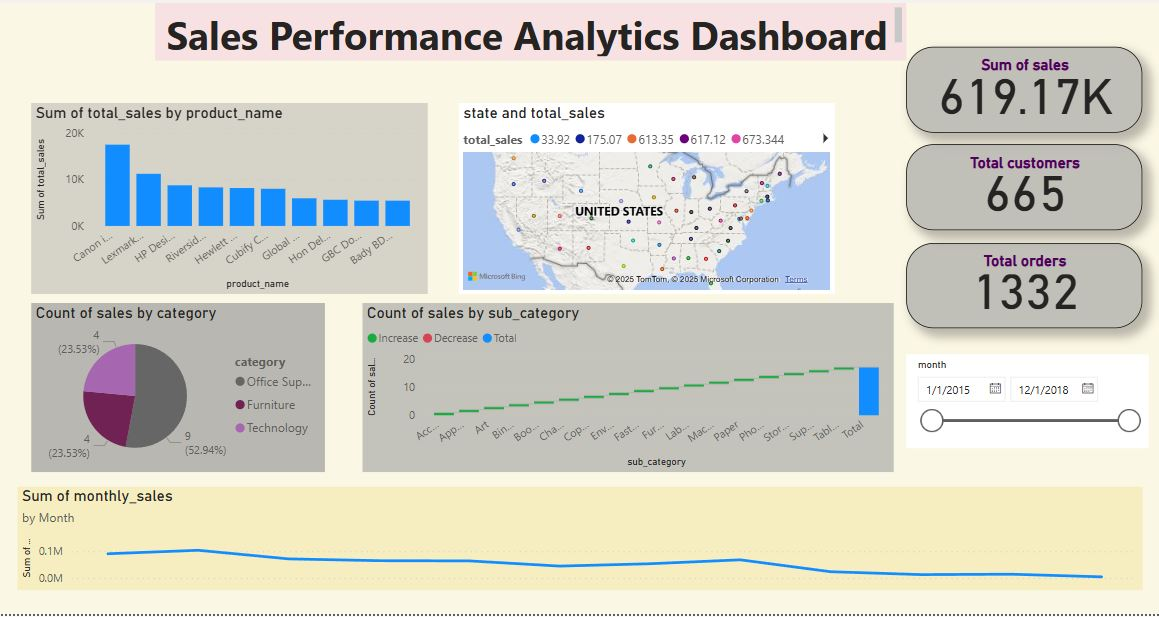

This screenshot's page, from the dashboard's own definition file:
{"tool":"powerbi","page":{"name":"Page 1","canvas":[1280,720],"ordinal":0},"visuals":[{"type":"card","title":"Sum of sales ","fields":{"Values":["Sum(card_visuals.sales_sum)"]},"box":[1000.3,97.4,259.3,94.7],"z":0},{"type":"card","title":"Total orders","fields":{"Values":["Sum(card_visuals.total_orders)"]},"box":[1000.3,312.9,259.3,93.3],"z":1000},{"type":"card","title":"Total customers","fields":{"Values":["Sum(card_visuals.total_customer)"]},"box":[1000.3,204.5,259.3,94.7],"z":2000},{"type":"textbox","box":[175.6,49.4,824.7,63.1],"z":3000},{"type":"lineChart","fields":{"Category":["sales over month.month.Variation.Date Hierarchy.Month"],"Y":["Sum(sales over month.monthly_sales)"]},"box":[24.7,580.4,1235,113.9],"z":4000},{"type":"map","fields":{"Category":["Map visuals or regional bar charts.state"],"Series":["Map visuals or regional bar charts.total_sales"]},"box":[509.1,159.2,413,209.9],"z":4001},{"type":"waterfallChart","fields":{"Category":["Category and Sub-Category Breakdown.sub_category"],"Y":["CountNonNull(Category and Sub-Category Breakdown.sales)"]},"box":[403.4,378.7,583.2,185.2],"z":4002},{"type":"slicer","fields":{"Values":["sales over month.month"]},"box":[1000.3,435,266.2,102.9],"z":4003},{"type":"columnChart","fields":{"Category":["Top N bar chart.product_name"],"Y":["Sum(Top N bar chart.total_sales)"]},"box":[39.8,159.2,435,209.9],"z":4004},{"type":"pieChart","fields":{"Y":["CountNonNull(Category and Sub-Category Breakdown.sales)"],"Category":["Category and Sub-Category Breakdown.category"]},"box":[39.8,378.7,322.5,185.2],"z":4005}]}

Visuals, with their boxes on the page's 1280x720 design canvas (x1, y1, x2, y2). These are canvas units, not pixel positions in the 1159x617 screenshot, which may show the page scaled, cropped or inside an application window:
"Sum of sales " card: l=1000, t=97, r=1260, b=192
"Total orders" card: l=1000, t=313, r=1260, b=406
"Total customers" card: l=1000, t=204, r=1260, b=299
textbox: l=176, t=49, r=1000, b=112
lineChart - sales over month.month.Variation.Date Hierarchy.Month x Sum(sales over month.monthly_sales): l=25, t=580, r=1260, b=694
map - Map visuals or regional bar charts.state x Map visuals or regional bar charts.total_sales: l=509, t=159, r=922, b=369
waterfallChart - Category and Sub-Category Breakdown.sub_category x CountNonNull(Category and Sub-Category Breakdown.sales): l=403, t=379, r=987, b=564
slicer - sales over month.month: l=1000, t=435, r=1266, b=538
columnChart - Top N bar chart.product_name x Sum(Top N bar chart.total_sales): l=40, t=159, r=475, b=369
pieChart - CountNonNull(Category and Sub-Category Breakdown.sales) x Category and Sub-Category Breakdown.category: l=40, t=379, r=362, b=564
